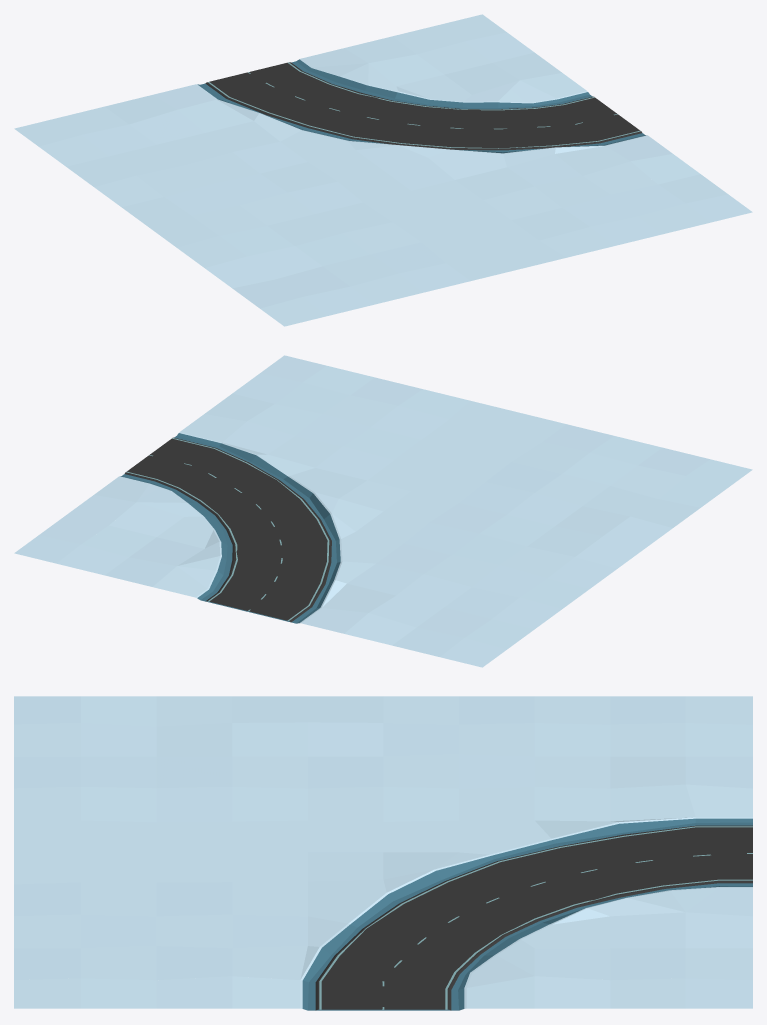
The model's file is model_road_snow_cornor_1.fbx.
The picture shows the model from 3 angles, top to bottom: view 1: azimuth 30°, elevation 25°; view 2: azimuth 150°, elevation 25°; view 3: azimuth 270°, elevation 25°; orthographic projection. The views are drawn at different scales.
Parts seen in each view (by area): view 1: model_road_snow_cornor_1; view 2: model_road_snow_cornor_1; view 3: model_road_snow_cornor_1.
Part boxes in pixels (left/top/right/bottom): model_road_snow_cornor_1: left=14, top=14, right=752, bottom=326; model_road_snow_cornor_1: left=14, top=355, right=752, bottom=667; model_road_snow_cornor_1: left=14, top=696, right=752, bottom=1010.
Bounding box in the file's own units: 6000 × 62.78 × 6000.
1 material, 1 textured.
